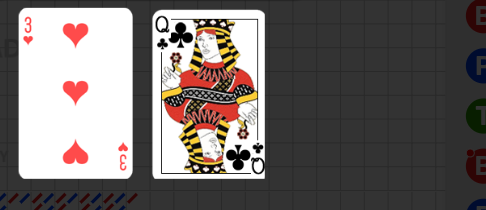3H: (116, 140, 129, 172)
QC: (219, 132, 263, 179), (152, 12, 196, 58)
